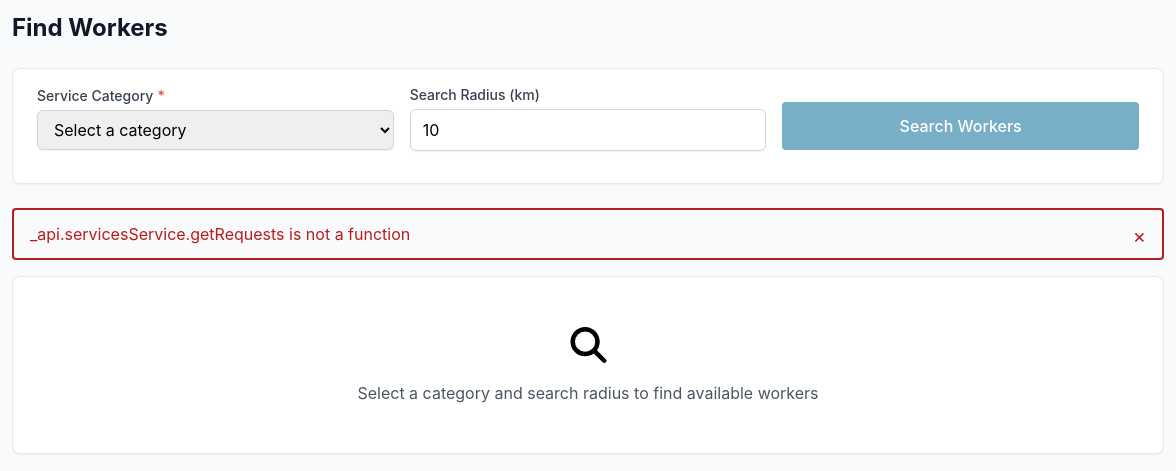
SearchWorkers page › shows workers ranked by highest score first
Select "Electrician" in the dropdown labelled "Service Category*". click: x=215, y=130
box: [37,110,394,150]
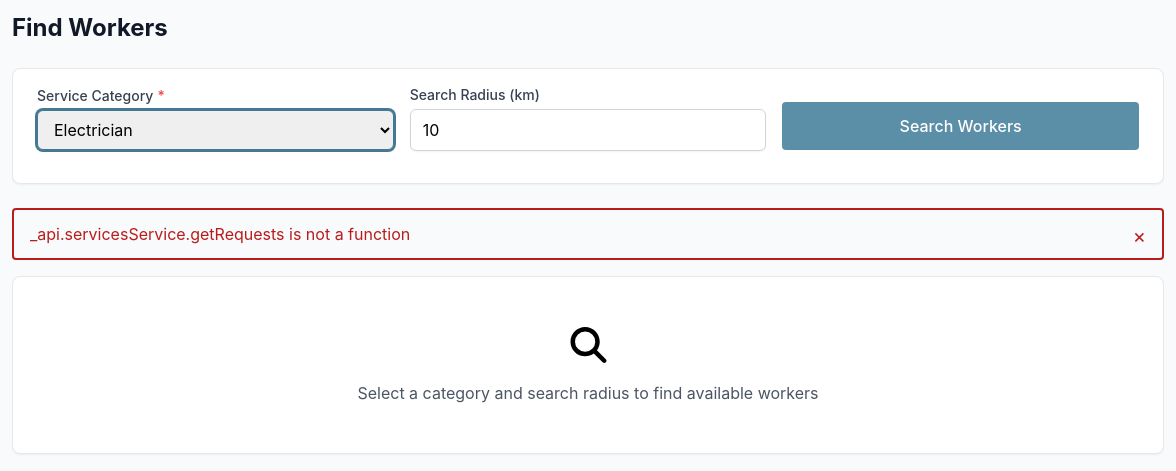
Click the button "Search Workers". click: x=961, y=126
box: [782,102,1139,150]
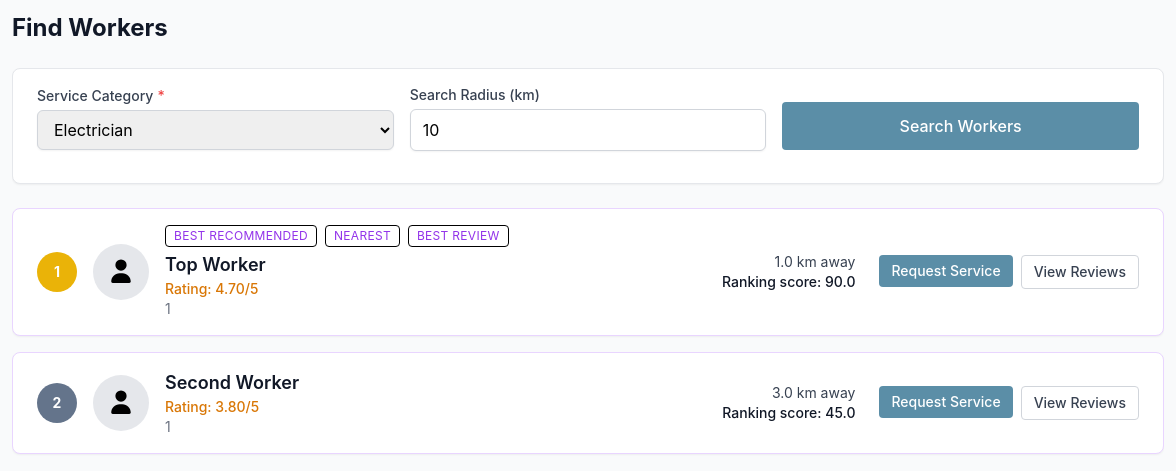
Check: the heading "Top Worker" is shown, box [165,254,266,275]
Check: the text "Ranking score: 90.0" is shown, box [722,273,855,290]
Check: the heading "Second Worker" is shown, box [165,369,299,397]
